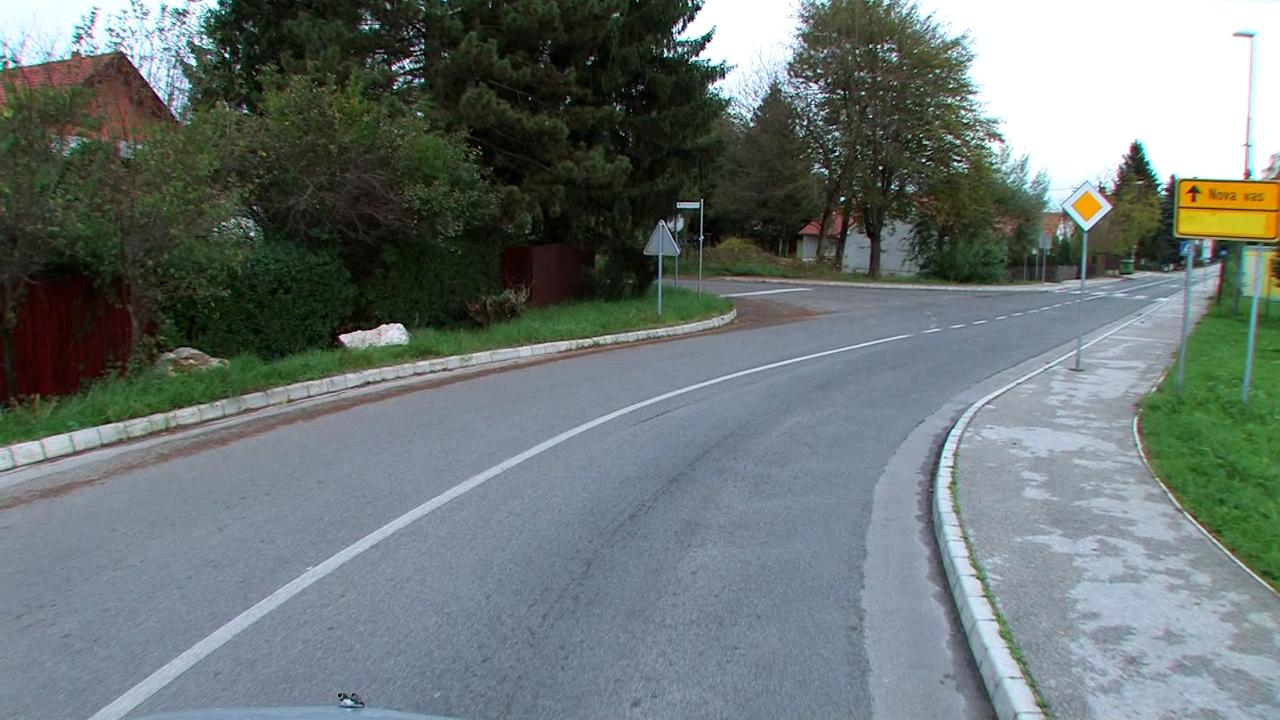Multi-inform: (1176, 177, 1280, 243)
Prior: (1062, 178, 1112, 230)
